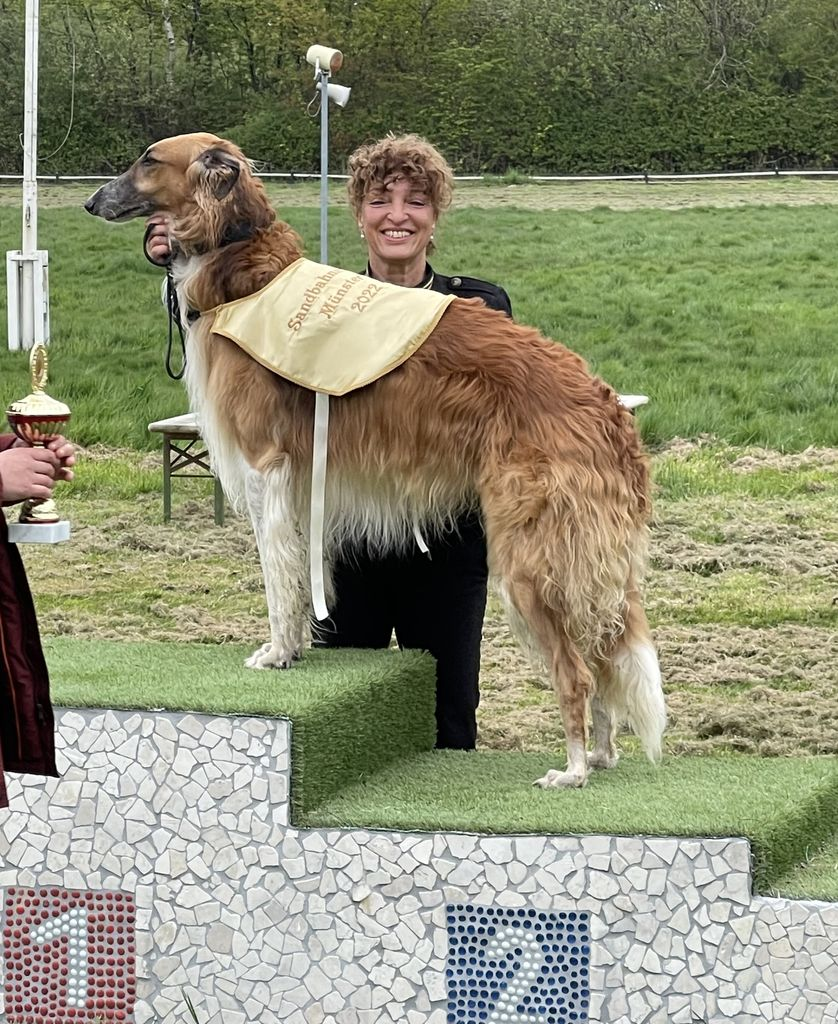borzoi: (72, 131, 705, 802)
